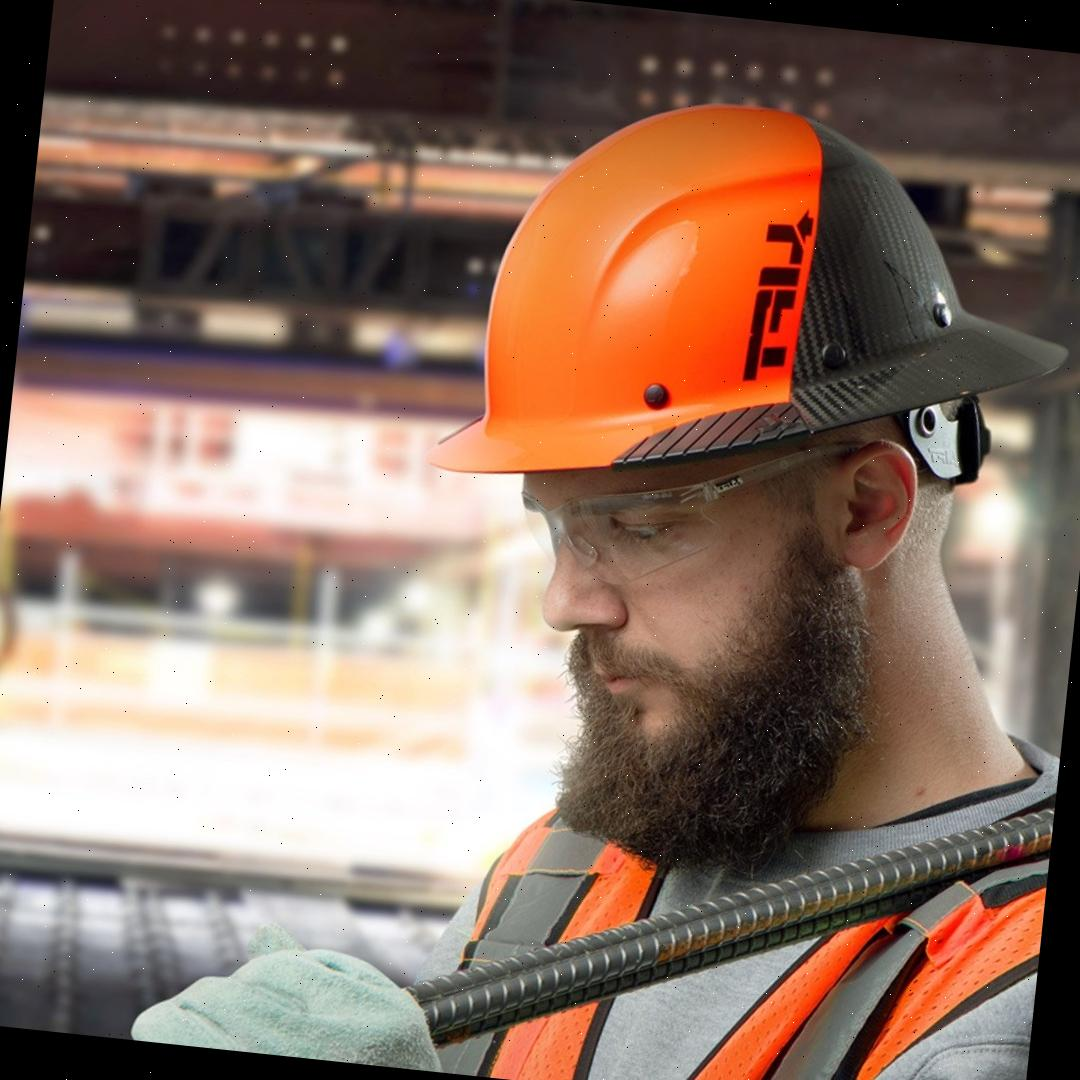helmet: (418, 66, 1080, 540)
wear: (444, 774, 1052, 1080)
